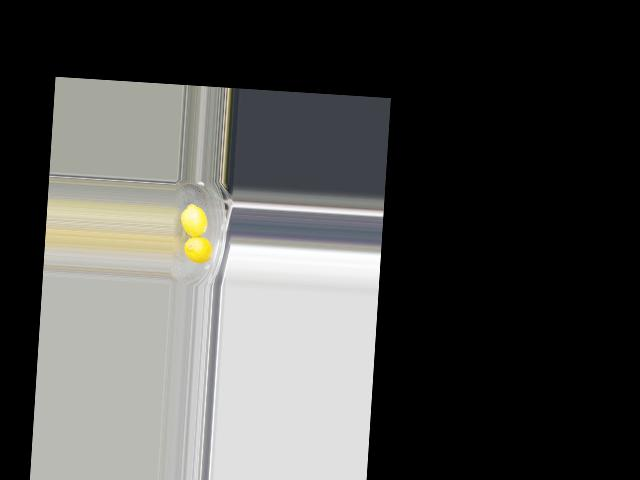lemon: (180, 201, 209, 240)
